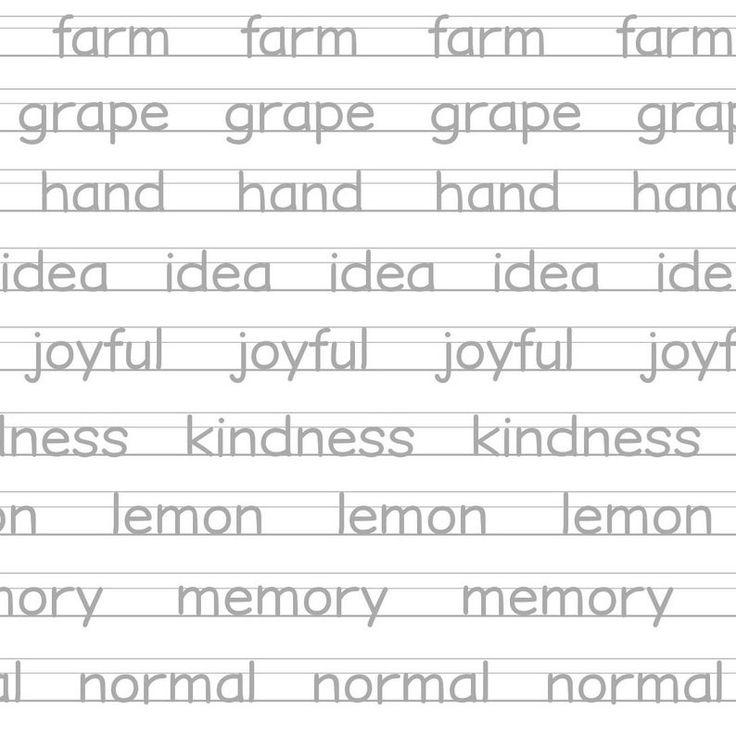text: (22, 324, 736, 389), (0, 649, 728, 712), (0, 483, 716, 540), (0, 246, 736, 296), (0, 411, 701, 463), (14, 99, 736, 149), (47, 11, 734, 63), (0, 579, 677, 631), (38, 166, 736, 214)
